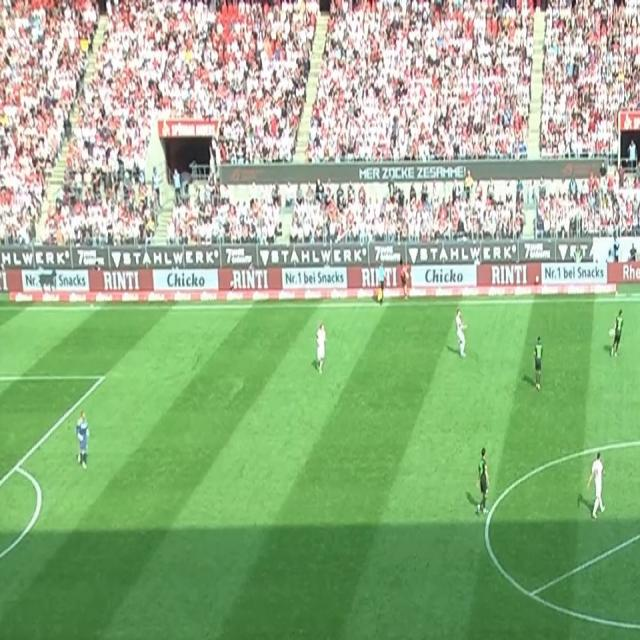ball: (608, 327, 616, 337)
